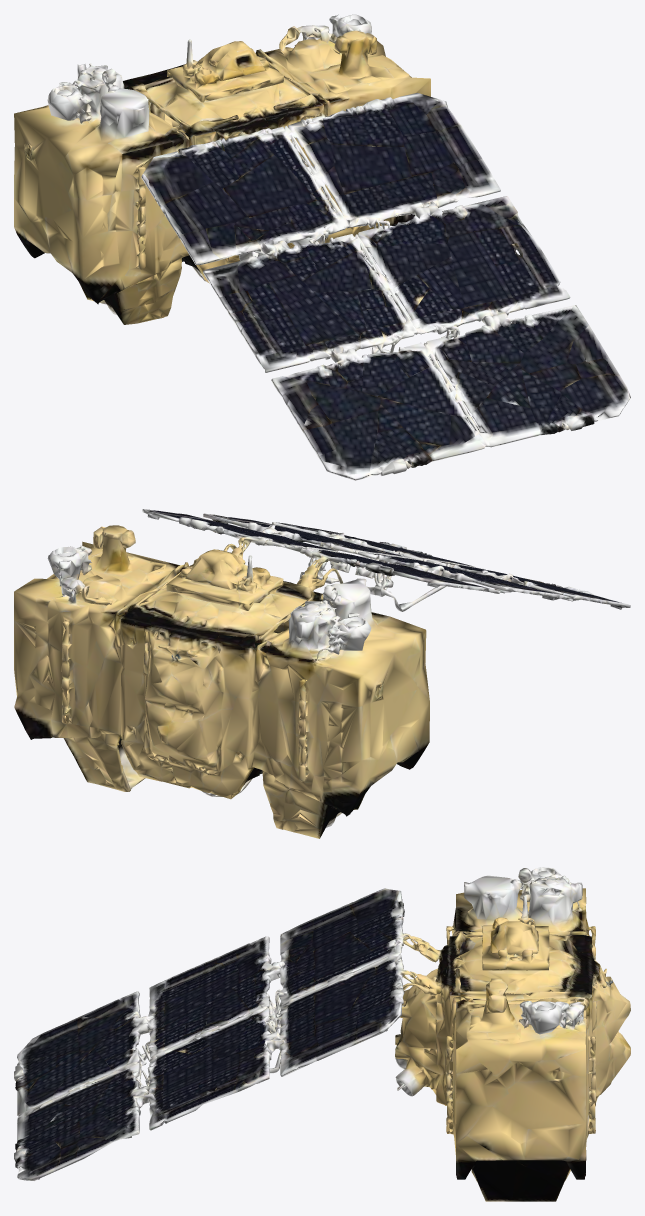
The model's file is sentinel2-low.glb.
The picture shows the model from 3 angles, top to bottom: view 1: azimuth 30°, elevation 25°; view 2: azimuth 150°, elevation 25°; view 3: azimuth 270°, elevation 25°; orthographic projection. The views are drawn at different scales.
Bounding box in the file's own units: 1.18 × 0.8174 × 1.9.
Materials: 1 (1 with a texture image).
